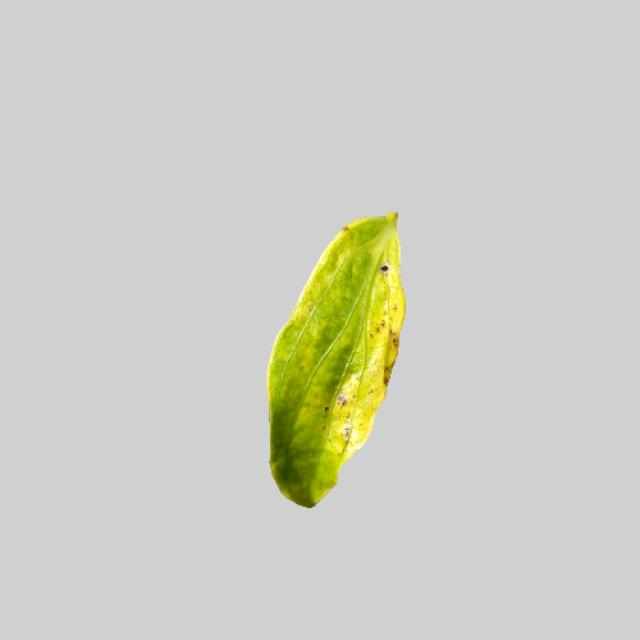yellow-mottle-virus: (252, 211, 412, 511)
